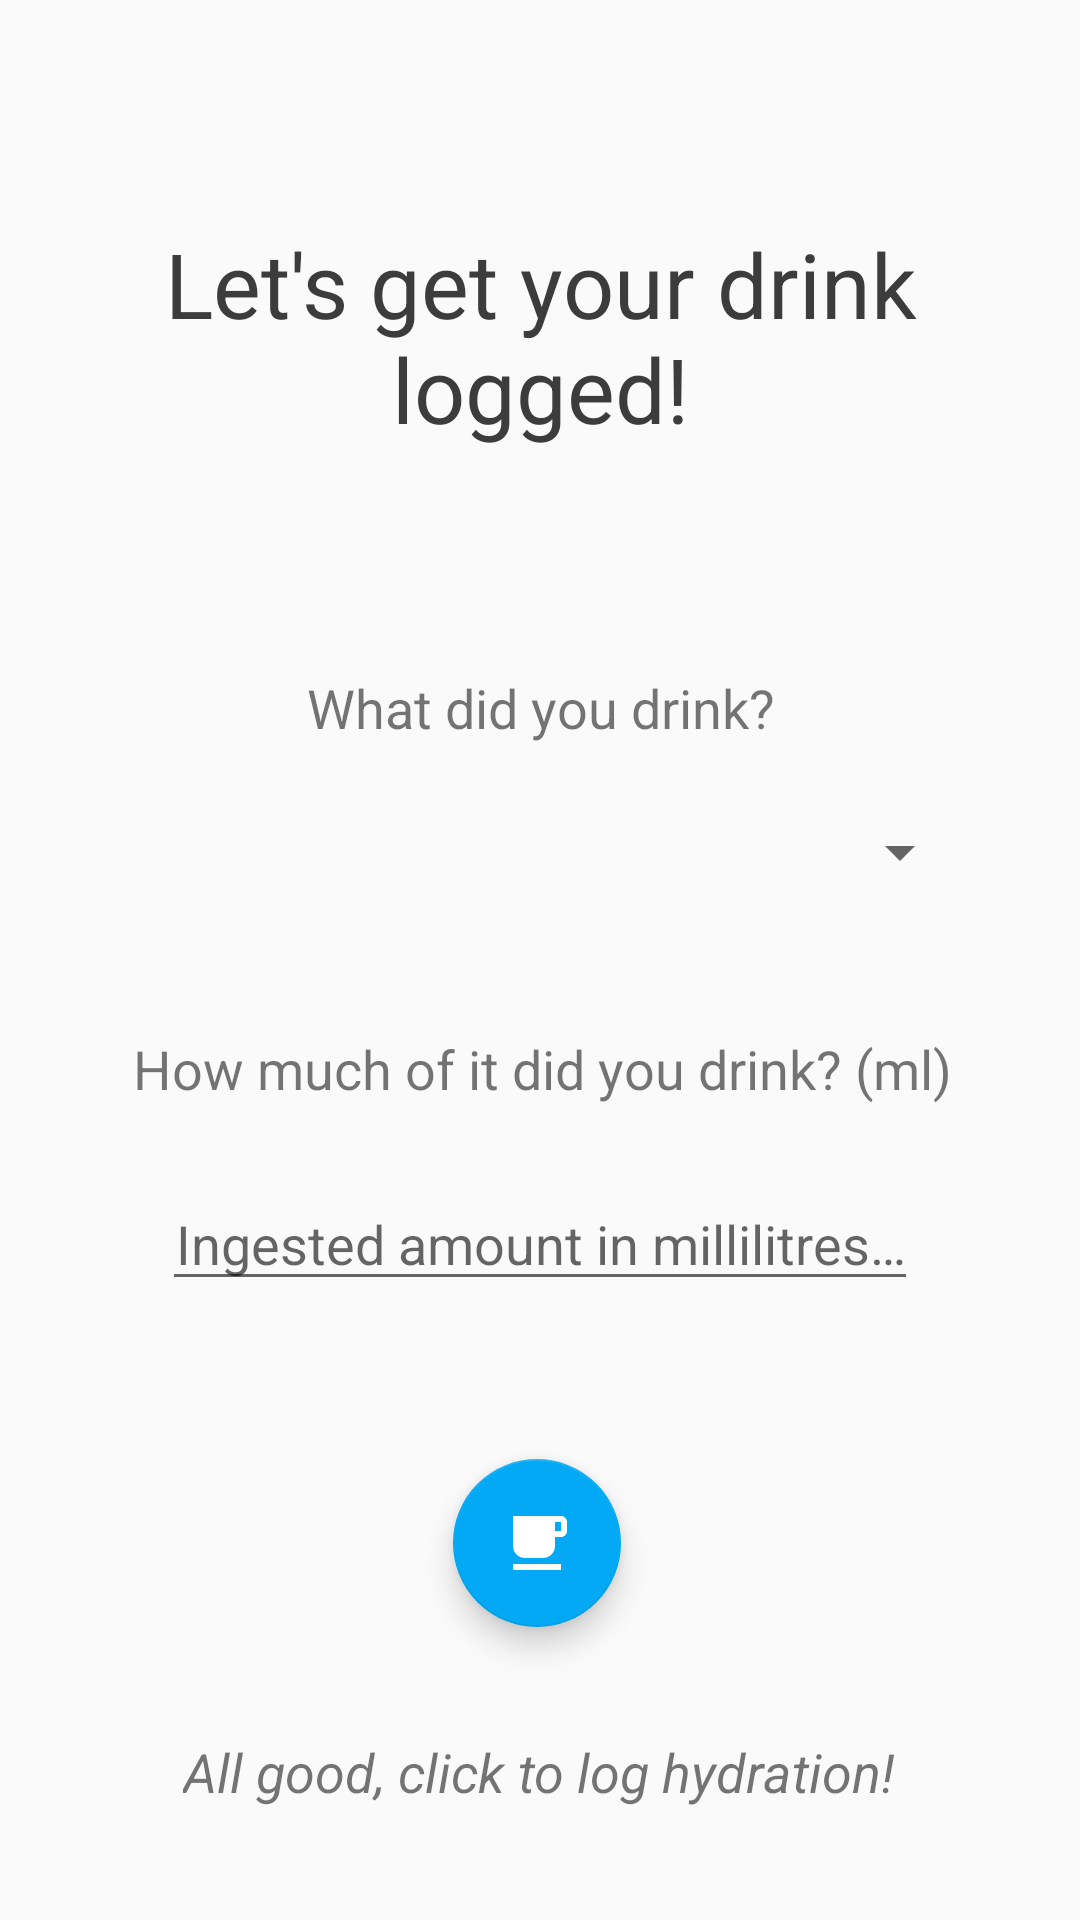

Icons on this 1080 × 1920 Android screen, each with its box as box=[x1, y1, x2, y2]:
free breakfast: box=[453, 1459, 621, 1627]
